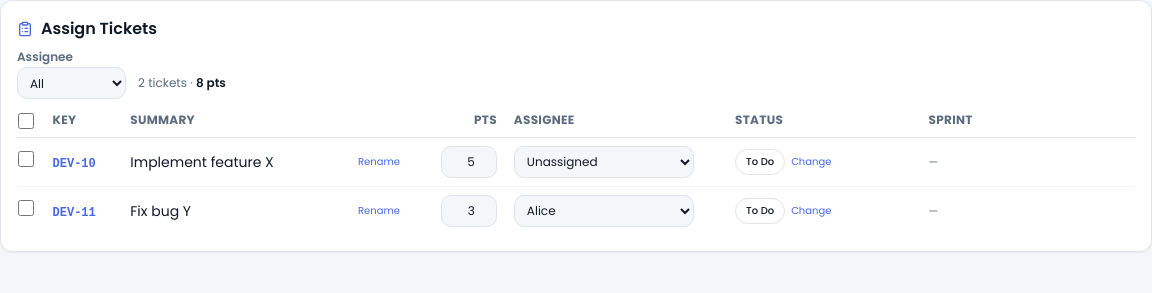
it: AssignmentList — changing select calls assignIssue › shows per-row inline error when assignIssue rejects (non-blocking)
The image size is (1152, 293).
Select "Alice" in the dropdown named "Assignee for DEV-10" at point(604, 162), box [514,146,694,178]
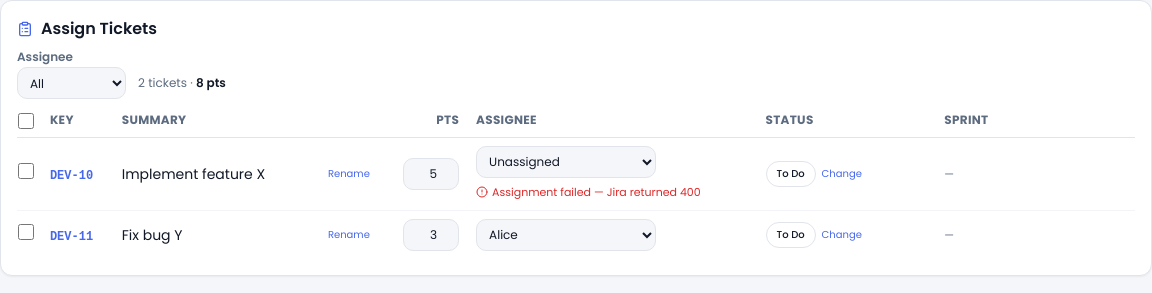
Expected: the dropdown named "Assignee for DEV-11" is shown, [476,219,656,251]
Expected: the text "Assignment failed — Jira returned 400" is shown, [476,184,701,200]
